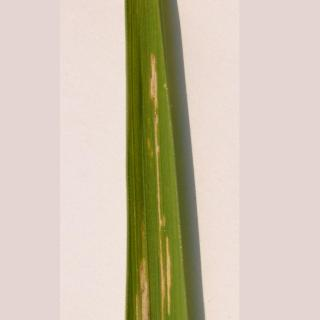Hawar-Daun: (130, 55, 178, 316)
